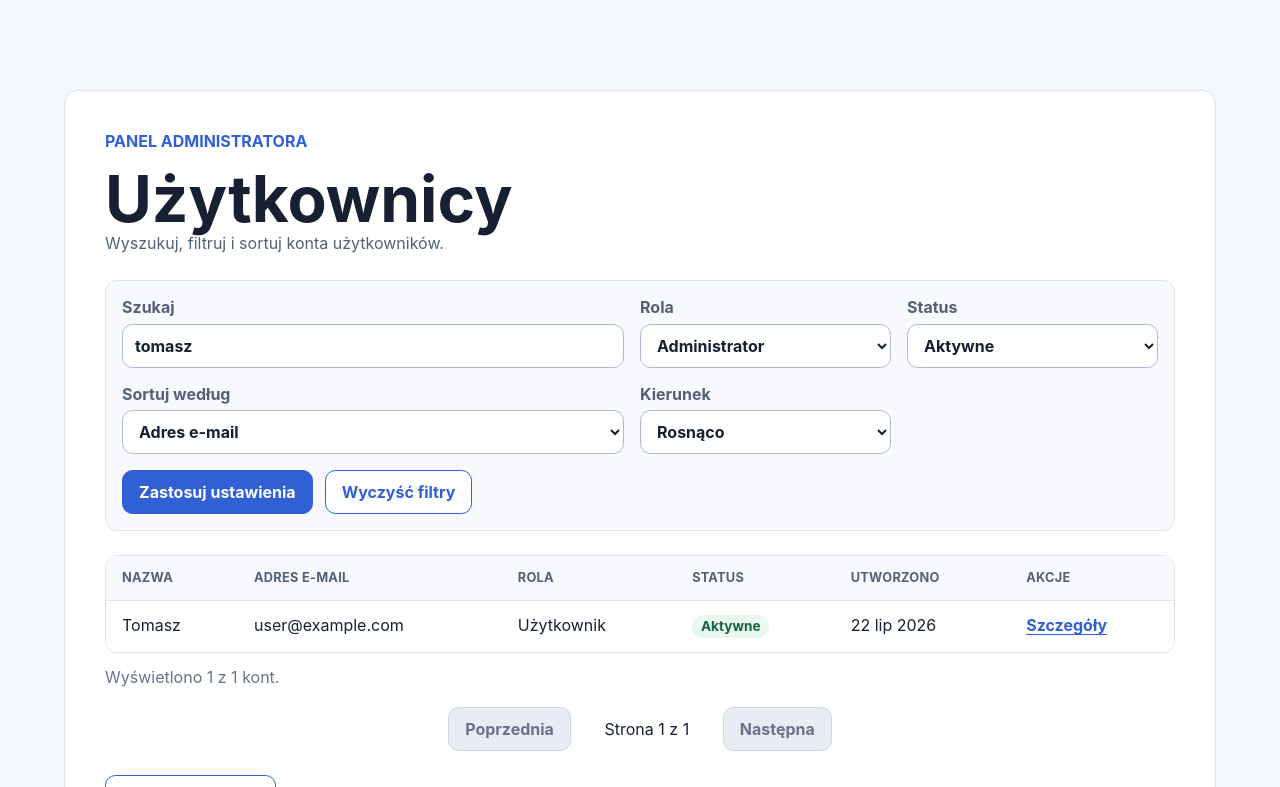
Test: AdminUsersPage › clears draft and applied filters
Expected: the text "user@example.com" is shown, [238,601,502,652]
Click the button "Wyczyść filtry". click: coordinates (398, 492)
box: [325,470,472,514]
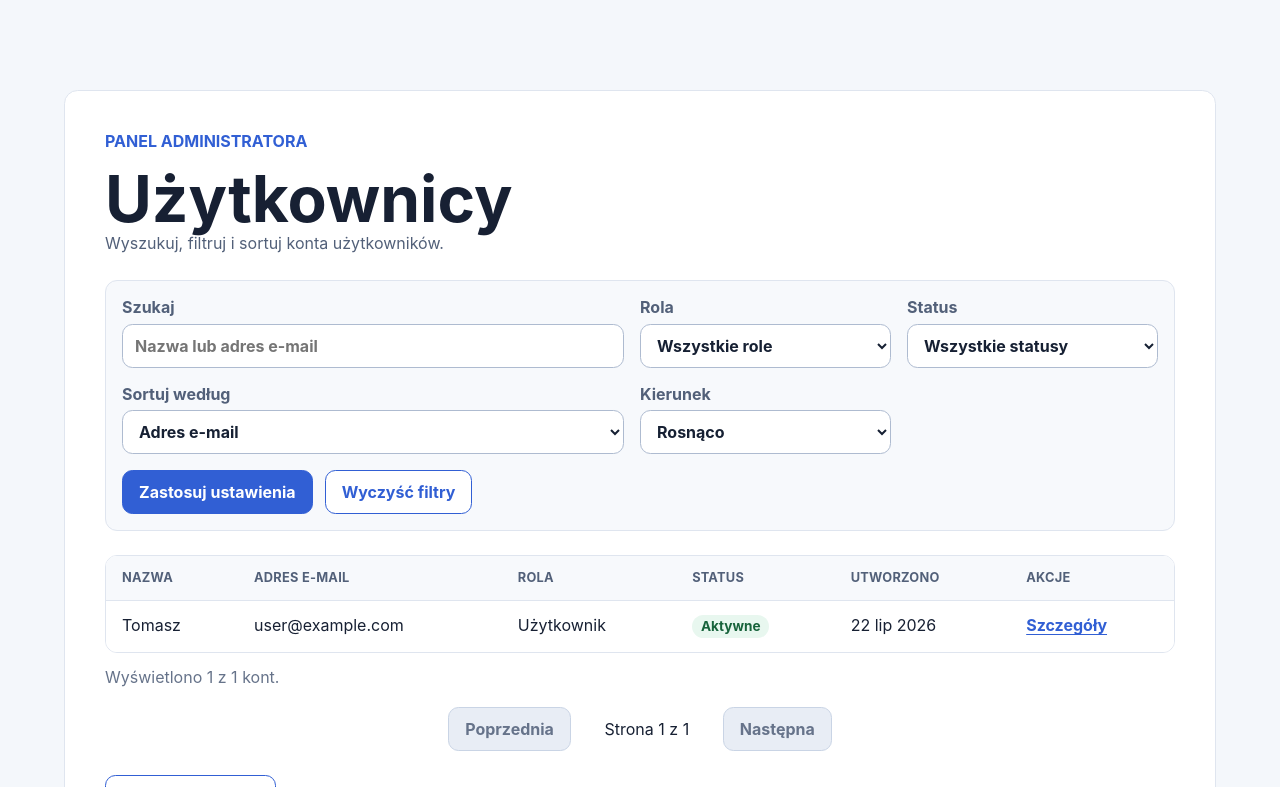
Result: the search field labelled "Szukaj" is empty at [122,324,624,368]
Result: the dropdown labelled "Rola" shows "Wszystkie role" at [640,324,891,368]
Result: the dropdown labelled "Status" shows "Wszystkie statusy" at [907,324,1158,368]
